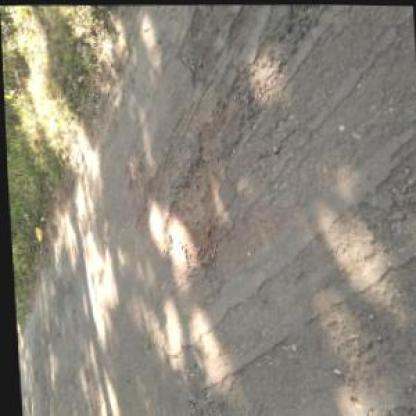pothole: (157, 146, 230, 268), (174, 3, 224, 84)
